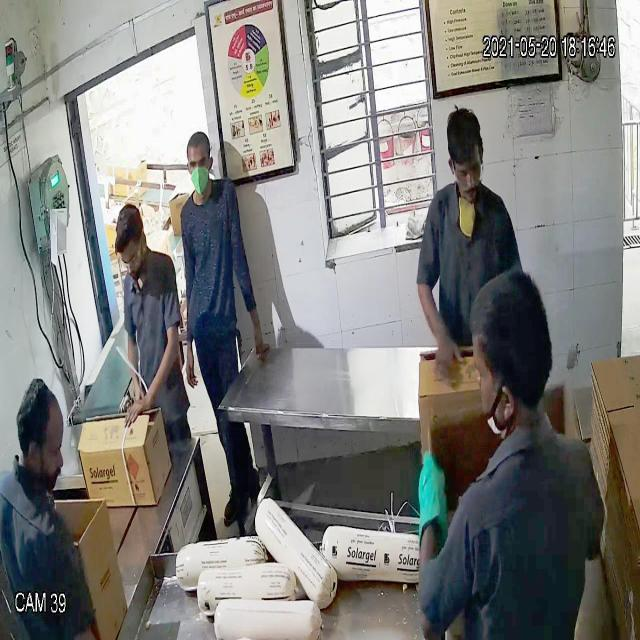glasses: (445, 150, 491, 197)
no-glass: (184, 150, 214, 172)
